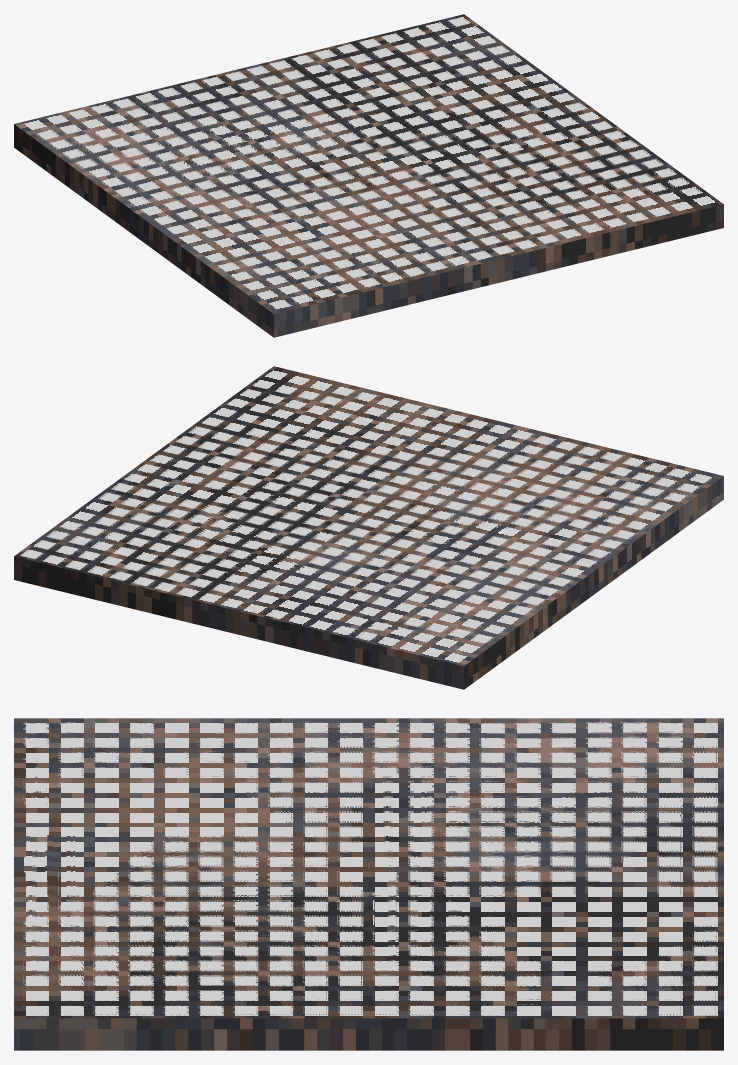
File: Metal Gantry Floor.glb
3 views of the same model, one above another, from view 1: azimuth 30°, elevation 25°; view 2: azimuth 150°, elevation 25°; view 3: azimuth 270°, elevation 25° (orthographic). The views are drawn at different scales.
Visible parts, largest first — view 1: Gantry Floor A; view 2: Gantry Floor A; view 3: Gantry Floor A.
Part boxes in pixels (<box>): Gantry Floor A: <box>14,14,723,337</box>; Gantry Floor A: <box>14,366,723,689</box>; Gantry Floor A: <box>14,718,723,1050</box>.
Bounding box in the file's own units: 1 × 0.05 × 1.
1 material, 1 textured.
